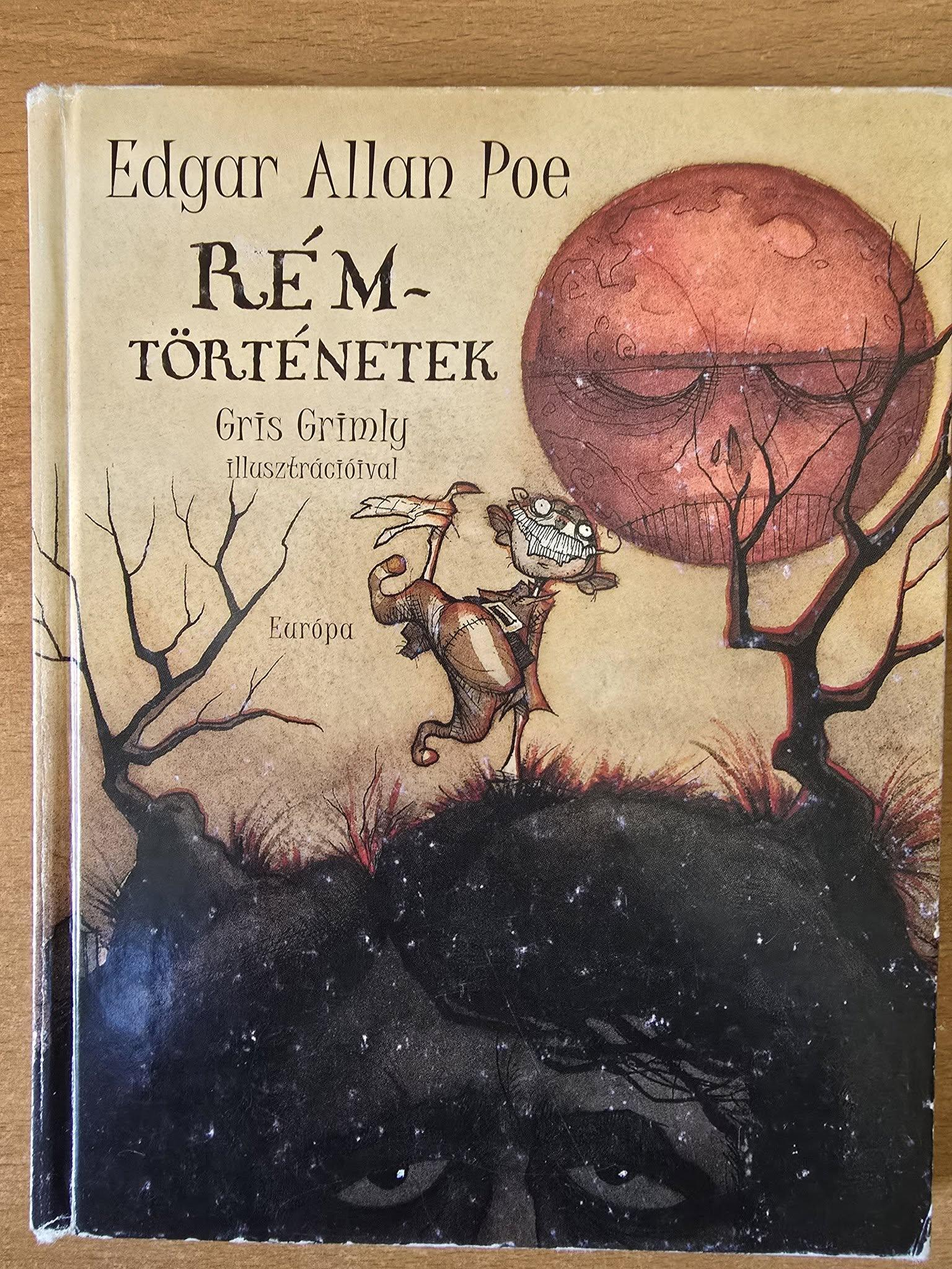comic: (30, 88, 951, 1255)
